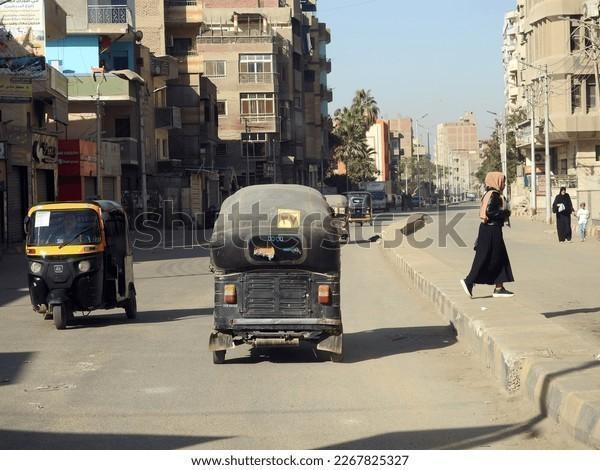keke: (205, 178, 342, 360), (28, 196, 139, 330)
